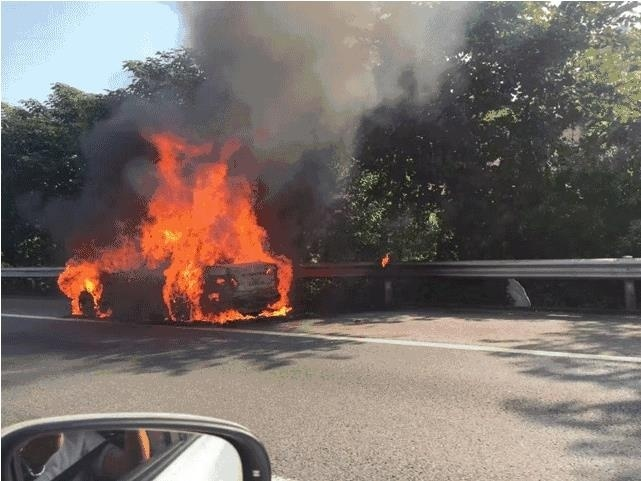fire: (58, 131, 308, 329)
